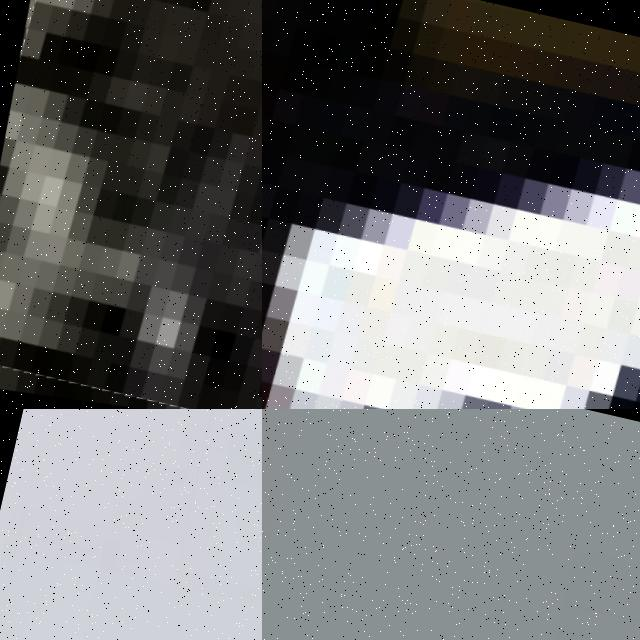0: (0, 0, 262, 409)
drone: (262, 0, 640, 409)
